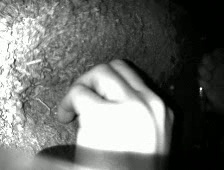corn: (169, 83, 175, 90)
